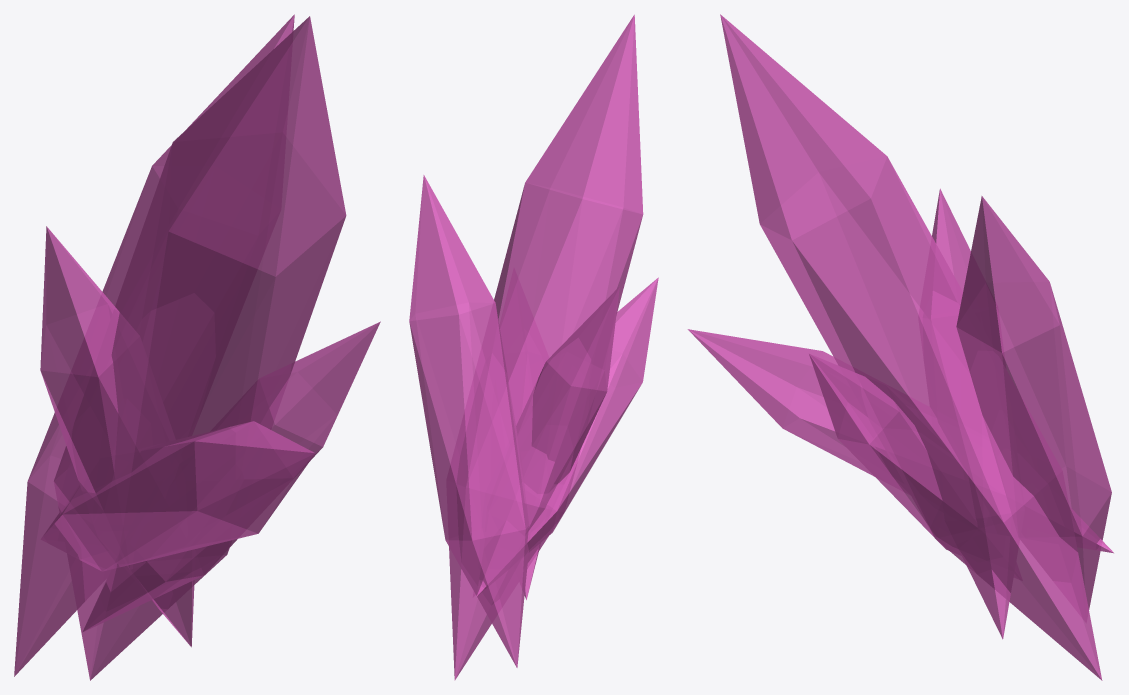
The model's file is TransformationCrystal1.fbx.
The picture shows the model from 3 angles, left to right: view 1: azimuth 30°, elevation 25°; view 2: azimuth 150°, elevation 25°; view 3: azimuth 270°, elevation 25°; orthographic projection. The views are drawn at different scales.
Parts seen in each view (by area): view 1: MagicstoneParticle.052; view 2: MagicstoneParticle.052; view 3: MagicstoneParticle.052.
Boxes of the visible parts, x1,y1,x2,y2 form: MagicstoneParticle.052: (14,14,380,680); MagicstoneParticle.052: (409,14,658,680); MagicstoneParticle.052: (687,14,1113,680).
Size of the model in its own units: 0.4728 by 1.4 by 0.8266.
